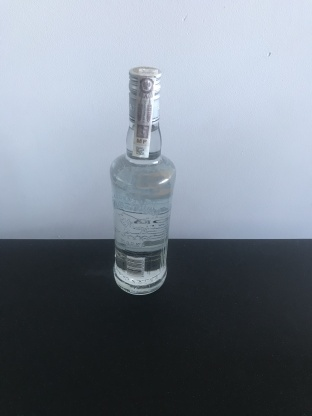nakretka: (126, 63, 163, 125)
